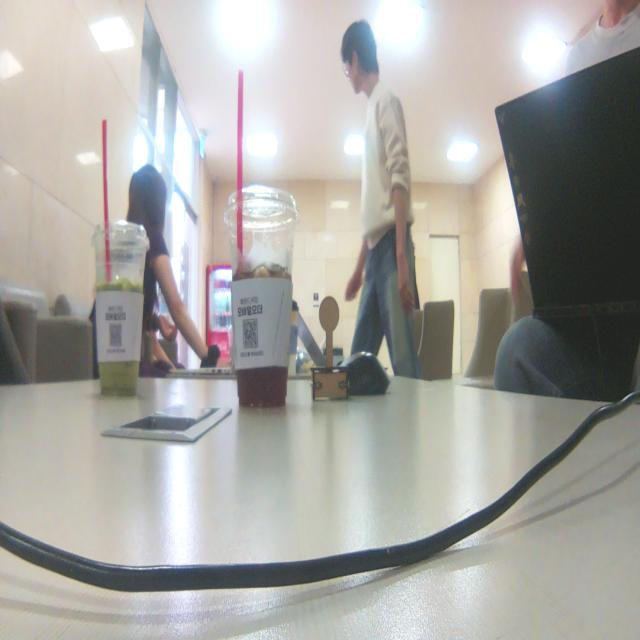target: (311, 296, 349, 402)
